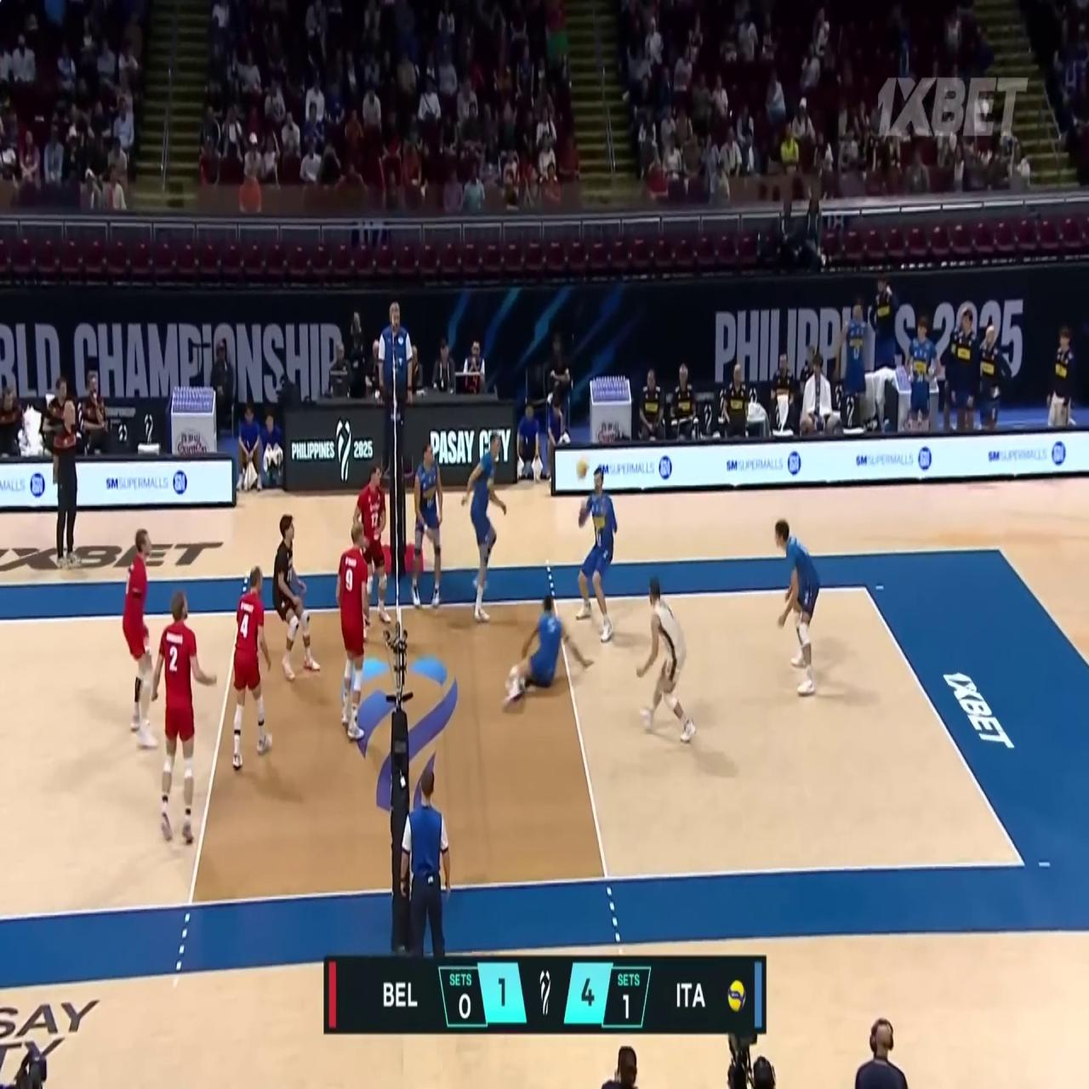ball: (577, 457, 589, 481)
